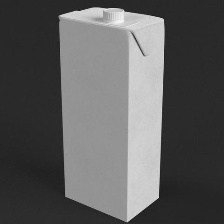carton: (54, 5, 169, 223)
